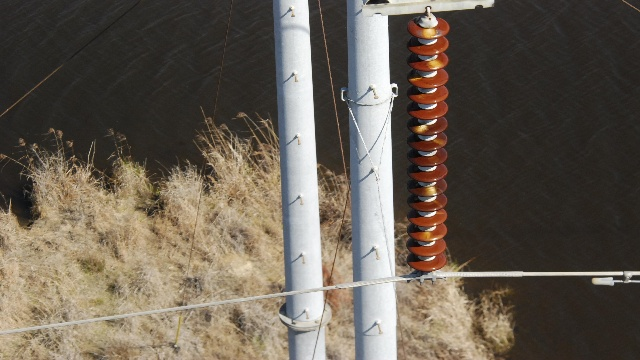insulator_unspecified: (406, 16, 449, 271)
pollution_flashover_local: (421, 186, 443, 196), (421, 26, 439, 38), (426, 58, 444, 70), (406, 71, 424, 82), (412, 123, 429, 133), (419, 230, 433, 241), (434, 138, 448, 145)
